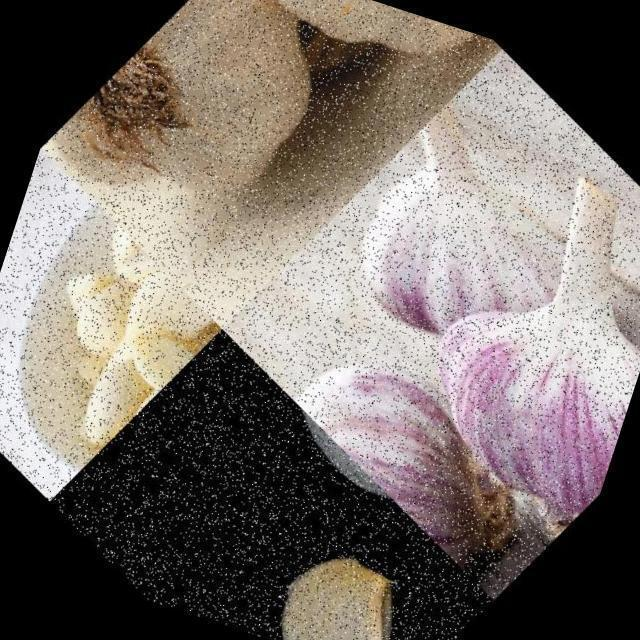garlic: (191, 245, 618, 608), (281, 58, 640, 428), (345, 123, 640, 551), (23, 0, 388, 304), (0, 196, 242, 473), (196, 0, 488, 145), (238, 501, 479, 640)
